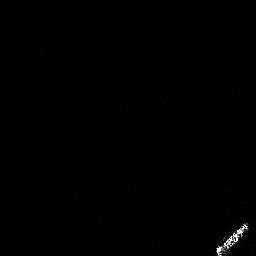ship: (212, 218, 253, 256)
